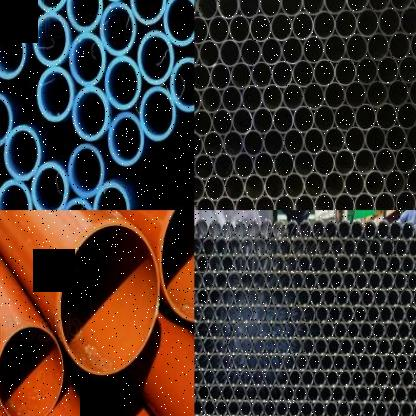pipe: (61, 224, 159, 376), (0, 325, 63, 416), (160, 210, 194, 322), (36, 67, 74, 122), (3, 125, 41, 180), (107, 111, 144, 167), (33, 12, 70, 67), (137, 30, 174, 85), (139, 86, 176, 141), (68, 143, 105, 198), (99, 2, 136, 56), (72, 87, 109, 141), (69, 33, 105, 86), (105, 57, 140, 110), (30, 162, 68, 210), (0, 23, 26, 79), (163, 0, 194, 46), (170, 58, 194, 112), (66, 0, 103, 33), (92, 181, 130, 210), (0, 179, 33, 210), (129, 0, 166, 24), (0, 92, 13, 148), (335, 9, 358, 38), (313, 10, 336, 39), (356, 8, 379, 37), (378, 7, 401, 36), (345, 33, 368, 62), (388, 31, 411, 60), (198, 39, 221, 68), (270, 12, 292, 42), (367, 31, 389, 61), (250, 13, 272, 43), (377, 55, 399, 85), (292, 11, 314, 40), (302, 35, 324, 64), (228, 14, 250, 43), (314, 58, 336, 87), (303, 81, 325, 110), (208, 15, 230, 44), (334, 57, 356, 86), (324, 34, 346, 63), (345, 80, 367, 109), (260, 37, 282, 65), (282, 36, 304, 64), (292, 59, 314, 87), (356, 57, 378, 85), (272, 60, 294, 88), (314, 104, 336, 132), (324, 81, 346, 109), (376, 102, 398, 130), (387, 79, 409, 107), (219, 39, 241, 67), (240, 38, 262, 66), (385, 124, 407, 152), (272, 106, 294, 134), (366, 80, 388, 108), (251, 60, 272, 89), (231, 61, 252, 90), (221, 84, 242, 113), (283, 82, 304, 111), (252, 107, 274, 134), (334, 104, 356, 131), (354, 103, 376, 130), (384, 169, 406, 196), (364, 170, 386, 197), (354, 148, 376, 175), (210, 62, 231, 90), (293, 105, 314, 133), (262, 83, 283, 111), (214, 152, 235, 180), (264, 172, 285, 200), (344, 126, 366, 152), (364, 126, 386, 152), (201, 86, 222, 113), (223, 130, 244, 157), (203, 131, 224, 158), (263, 129, 284, 156), (284, 172, 305, 199), (324, 171, 345, 198), (334, 149, 355, 176), (375, 147, 396, 174), (242, 84, 262, 112), (304, 127, 324, 155), (274, 150, 294, 178), (234, 151, 254, 179), (194, 152, 214, 180), (212, 109, 233, 135), (395, 147, 416, 173), (242, 130, 263, 156), (324, 127, 345, 153), (314, 150, 335, 176), (304, 172, 325, 198), (344, 171, 365, 197), (232, 108, 253, 134), (284, 128, 304, 155), (396, 102, 416, 129), (294, 150, 314, 177), (254, 151, 274, 178), (244, 173, 264, 200), (205, 174, 225, 201), (224, 175, 245, 200), (398, 54, 416, 83), (399, 5, 416, 35), (194, 108, 212, 136), (58, 197, 96, 210), (194, 63, 211, 90), (196, 0, 218, 20), (33, 0, 68, 12), (374, 190, 395, 210), (395, 190, 416, 210), (218, 0, 240, 19), (194, 15, 208, 44), (0, 0, 25, 16), (238, 0, 260, 18), (260, 0, 282, 17), (314, 192, 334, 210), (334, 192, 354, 210), (354, 192, 374, 210), (280, 0, 302, 16), (294, 193, 314, 210), (274, 193, 294, 210), (235, 194, 256, 210), (302, 0, 324, 15), (363, 219, 378, 241), (254, 194, 274, 210), (323, 253, 338, 274), (324, 0, 346, 14), (253, 236, 267, 258), (317, 236, 331, 258), (278, 236, 292, 258), (216, 195, 236, 210), (196, 195, 216, 210), (241, 235, 254, 258), (208, 219, 222, 240), (272, 219, 286, 240), (284, 253, 298, 274), (259, 253, 273, 274), (297, 253, 311, 274), (291, 270, 305, 291), (277, 270, 291, 291), (214, 270, 228, 291), (252, 270, 266, 291), (368, 270, 382, 291), (329, 271, 343, 292), (355, 271, 369, 292), (322, 287, 336, 308), (346, 0, 368, 13), (405, 168, 416, 194), (266, 236, 279, 258), (215, 236, 228, 258), (202, 236, 215, 258), (305, 236, 318, 258), (292, 236, 305, 258), (330, 236, 343, 258), (406, 123, 416, 151), (298, 220, 312, 240), (401, 221, 415, 241), (343, 238, 357, 258), (368, 238, 382, 258), (375, 254, 389, 274), (349, 254, 363, 274), (388, 254, 402, 274), (401, 254, 415, 274), (393, 271, 407, 291), (296, 288, 310, 308), (335, 288, 349, 308), (399, 288, 413, 308), (214, 304, 228, 324), (289, 304, 303, 324), (315, 304, 329, 324), (328, 304, 342, 324), (392, 304, 406, 324), (379, 304, 393, 324), (334, 321, 348, 341), (385, 321, 399, 341), (359, 321, 373, 341), (402, 337, 416, 357), (333, 353, 347, 373), (370, 353, 384, 373), (301, 368, 315, 388), (313, 368, 327, 388), (338, 368, 352, 388), (326, 368, 340, 388), (376, 368, 390, 388), (401, 369, 415, 389), (306, 384, 320, 404), (381, 385, 395, 405), (260, 219, 273, 240), (325, 219, 338, 240), (312, 219, 325, 240), (338, 219, 351, 240), (389, 220, 402, 241), (272, 253, 285, 274), (311, 253, 324, 274), (246, 253, 259, 274), (221, 253, 234, 274), (337, 253, 350, 274), (265, 270, 278, 291), (240, 270, 253, 291), (227, 270, 240, 291), (202, 270, 215, 291), (304, 271, 317, 292), (317, 271, 330, 292), (343, 271, 356, 292), (381, 271, 394, 292), (284, 287, 297, 308), (246, 287, 259, 308), (374, 287, 387, 308), (361, 287, 374, 308), (194, 131, 204, 158), (314, 337, 328, 356), (339, 337, 353, 356), (365, 337, 379, 356), (295, 353, 309, 372), (368, 0, 390, 12), (194, 176, 205, 200), (235, 218, 247, 240), (196, 218, 208, 240), (351, 218, 363, 240), (229, 236, 241, 258), (286, 220, 299, 240), (395, 238, 408, 258), (381, 238, 394, 258), (356, 238, 369, 258), (362, 254, 375, 274), (209, 288, 222, 308), (196, 288, 209, 308), (348, 288, 361, 308), (387, 288, 400, 308), (240, 304, 253, 324), (227, 304, 240, 324), (303, 304, 316, 324), (367, 304, 380, 324), (354, 304, 367, 324), (341, 304, 354, 324), (277, 304, 290, 324), (196, 320, 209, 340), (209, 320, 222, 340), (271, 320, 284, 340), (296, 321, 309, 341), (322, 321, 335, 341), (347, 321, 360, 341), (372, 321, 385, 341), (398, 321, 411, 341), (240, 336, 253, 356), (227, 336, 240, 356), (252, 336, 265, 356), (264, 336, 277, 356), (289, 336, 302, 356), (378, 337, 391, 357), (197, 352, 210, 372), (221, 352, 234, 372), (258, 352, 271, 372), (308, 352, 321, 372), (320, 353, 333, 373), (346, 353, 359, 373), (396, 353, 409, 373), (383, 353, 396, 373), (227, 368, 240, 388), (252, 368, 265, 388), (276, 368, 289, 388), (288, 368, 301, 388), (351, 368, 364, 388), (364, 368, 377, 388), (319, 384, 332, 404), (390, 0, 413, 11), (247, 219, 259, 240), (196, 253, 208, 274), (234, 253, 246, 274), (209, 253, 221, 274), (260, 287, 272, 308), (310, 287, 322, 308), (272, 287, 284, 308), (259, 321, 272, 340), (234, 321, 247, 340), (246, 321, 259, 340), (221, 321, 234, 340), (302, 337, 315, 356), (353, 337, 366, 356), (327, 337, 340, 356), (245, 384, 258, 403), (270, 384, 283, 403), (344, 385, 357, 404), (331, 385, 344, 404), (369, 385, 382, 404), (377, 220, 389, 240), (222, 220, 234, 240), (234, 288, 246, 308), (222, 288, 234, 308), (203, 304, 215, 324), (265, 304, 277, 324), (253, 304, 265, 324), (404, 304, 416, 324), (284, 320, 296, 340), (309, 320, 321, 340), (215, 336, 227, 356), (203, 336, 215, 356), (234, 352, 246, 372), (210, 352, 222, 372), (246, 352, 258, 372), (359, 353, 371, 373), (203, 368, 215, 388), (240, 368, 252, 388), (264, 368, 276, 388), (295, 384, 307, 404), (395, 385, 407, 405), (374, 399, 388, 416), (399, 399, 413, 416), (389, 370, 402, 388), (197, 384, 210, 402), (221, 384, 234, 402), (282, 385, 295, 403), (215, 398, 228, 416), (408, 77, 416, 106), (277, 337, 289, 356), (391, 337, 403, 356), (271, 353, 283, 372), (283, 353, 295, 372), (215, 368, 227, 387), (258, 384, 270, 403), (357, 385, 369, 404), (194, 86, 202, 114), (251, 399, 264, 416), (275, 399, 288, 416), (300, 399, 313, 416), (234, 384, 246, 402), (210, 384, 222, 402), (203, 398, 215, 416), (227, 398, 239, 416), (239, 398, 251, 416), (312, 400, 325, 416), (337, 400, 350, 416), (362, 400, 375, 416), (325, 399, 337, 416), (350, 399, 362, 416), (264, 399, 276, 416), (288, 399, 300, 416), (409, 29, 416, 58), (406, 271, 416, 291), (194, 368, 204, 388), (406, 384, 416, 404), (388, 400, 400, 416), (407, 237, 416, 257), (194, 336, 203, 356), (407, 353, 416, 372), (194, 40, 200, 68), (194, 270, 202, 291), (194, 398, 203, 416), (194, 236, 202, 256), (194, 304, 202, 322), (409, 320, 416, 340), (412, 288, 416, 308), (194, 352, 198, 371), (194, 384, 198, 402), (413, 400, 416, 416), (414, 220, 416, 240), (414, 254, 416, 274), (414, 368, 416, 388), (196, 413, 209, 416), (412, 0, 416, 9), (209, 414, 222, 416), (221, 414, 233, 416), (234, 414, 246, 416), (282, 414, 294, 416), (415, 337, 416, 357)
